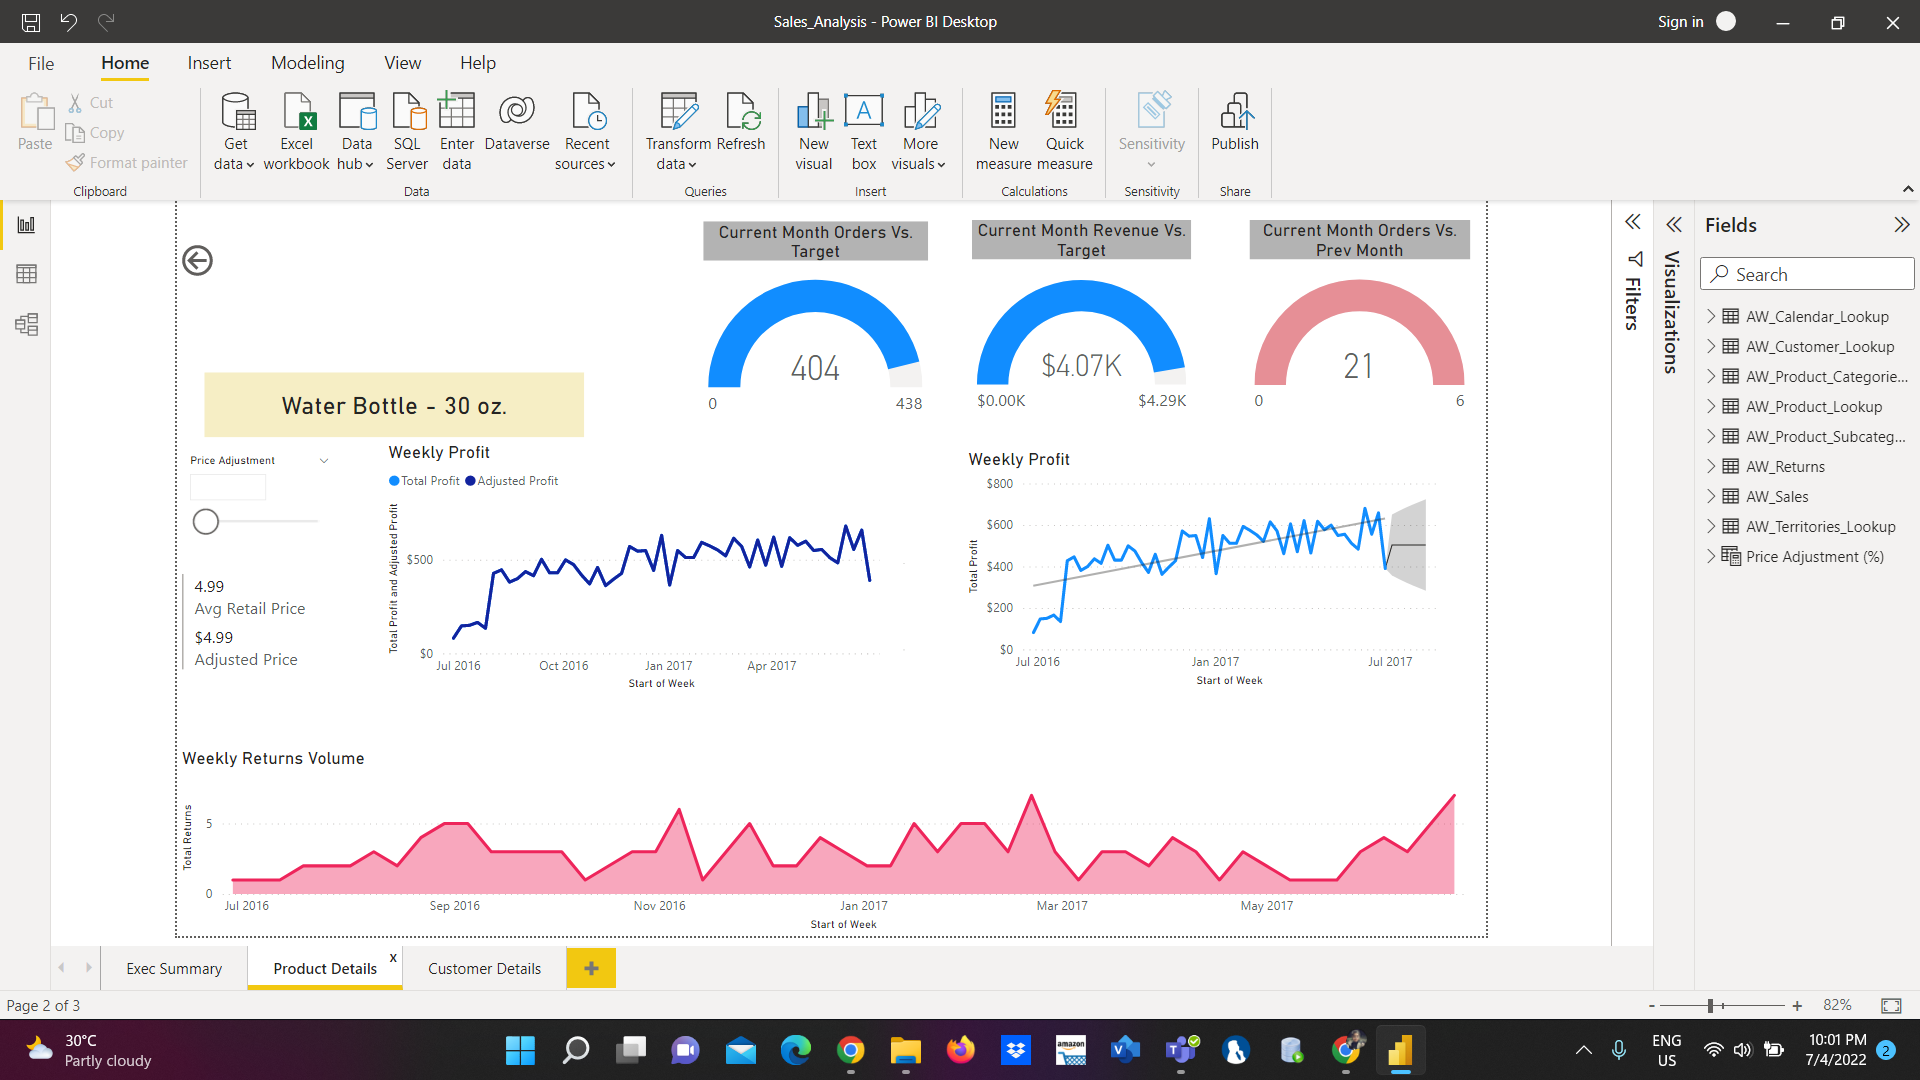

Layout of this report page (visuals, bound fields, positions):
{"tool":"powerbi","page":{"name":"Product Details","canvas":[1280,720],"ordinal":1},"visuals":[{"type":"lineChart","title":"Weekly Profit","fields":{"Y":["AW_Sales.Total Profit"],"Category":["AW_Calendar_Lookup.Start of Week"]},"box":[768.9,243.3,479.2,237.1],"z":1000},{"type":"areaChart","title":"Weekly Returns Volume","fields":{"Category":["AW_Calendar_Lookup.Start of Week"],"Y":["AW_Returns.Total Returns"]},"box":[0,535.6,1280,184],"z":2000},{"type":"gauge","title":"Current Month Orders Vs. Target","fields":{"Y":["AW_Sales.Total Orders"],"MaxValue":["AW_Sales.Order Target"]},"box":[515,20.6,219.7,212.9],"z":3000},{"type":"gauge","title":"Current Month Revenue Vs. Target","fields":{"MaxValue":["AW_Sales.Revenue Target"],"Y":["AW_Sales.Total Revenue"]},"box":[777.3,19.2,214.2,212.9],"z":4000},{"type":"gauge","title":"Current Month Orders Vs. Prev Month","fields":{"Y":["AW_Returns.Total Returns"],"MaxValue":["AW_Returns.Prev Month Returns"]},"box":[1049.3,19.2,215.6,212.9],"z":5000},{"type":"card","fields":{"Values":["Min(AW_Product_Lookup.ProductName)"]},"box":[27.5,168.9,370.8,63.2],"z":6000},{"type":"actionButton","box":[0,39.1,100.2,40.3],"z":7000},{"type":"multiRowCard","fields":{"Values":["AW_Product_Lookup.Avg Retail Price","AW_Product_Lookup.Adjusted Price"]},"box":[0,360.6,161.4,119.8],"z":8000},{"type":"slicer","fields":{"Values":["Price Adjustment.Price Adjustment"]},"box":[0,243.3,161.4,103.9],"z":9000},{"type":"lineChart","title":"Weekly Profit","fields":{"Y":["AW_Sales.Total Profit","AW_Sales.Adjusted Profit"],"Category":["AW_Calendar_Lookup.Start of Week"]},"box":[255.5,243.3,479.2,237.1],"z":10000},{"type":"lineChart","title":"Weekly Profit","fields":{"Y":["AW_Sales.Total Profit","AW_Sales.Adjusted Profit"],"Category":["AW_Calendar_Lookup.Start of Week"]},"box":[201.9,236.2,505.4,248.6],"z":11000}]}

Visuals, with their boxes on the page's 1280x720 design canvas (x1, y1, x2, y2). These are canvas units, not pixel positions in the 1920x1080 screenshot, which may show the page scaled, cropped or inside an application window:
"Weekly Profit" lineChart: (769,243,1248,480)
"Weekly Returns Volume" areaChart: (0,536,1280,720)
"Current Month Orders Vs. Target" gauge: (515,21,735,234)
"Current Month Revenue Vs. Target" gauge: (777,19,992,232)
"Current Month Orders Vs. Prev Month" gauge: (1049,19,1265,232)
card - Min(AW_Product_Lookup.ProductName): (28,169,398,232)
actionButton: (0,39,100,79)
multiRowCard - AW_Product_Lookup.Avg Retail Price x AW_Product_Lookup.Adjusted Price: (0,361,161,480)
slicer - Price Adjustment.Price Adjustment: (0,243,161,347)
"Weekly Profit" lineChart: (256,243,735,480)
"Weekly Profit" lineChart: (202,236,707,485)
